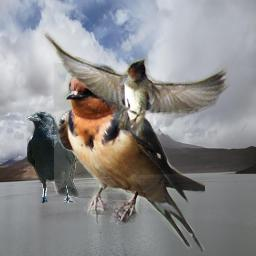Crow: (27, 111, 79, 203)
Swallow: (54, 63, 205, 254), (41, 30, 230, 144)
